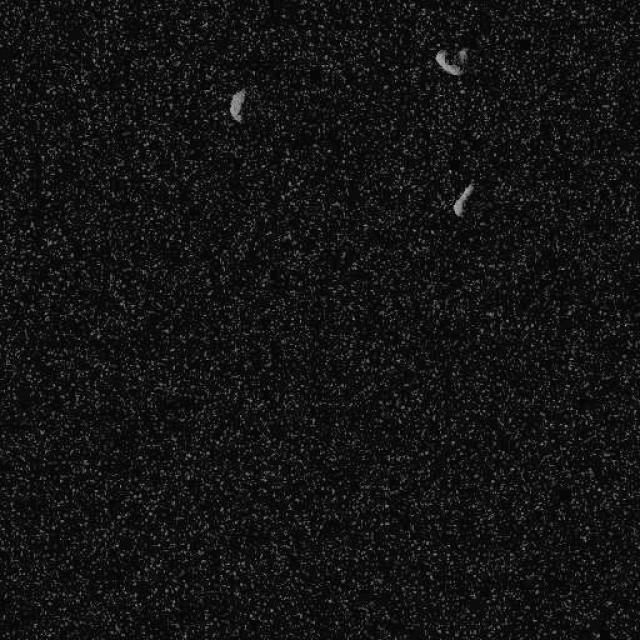D2: (434, 45, 470, 76), (451, 180, 475, 218), (228, 88, 246, 124)
